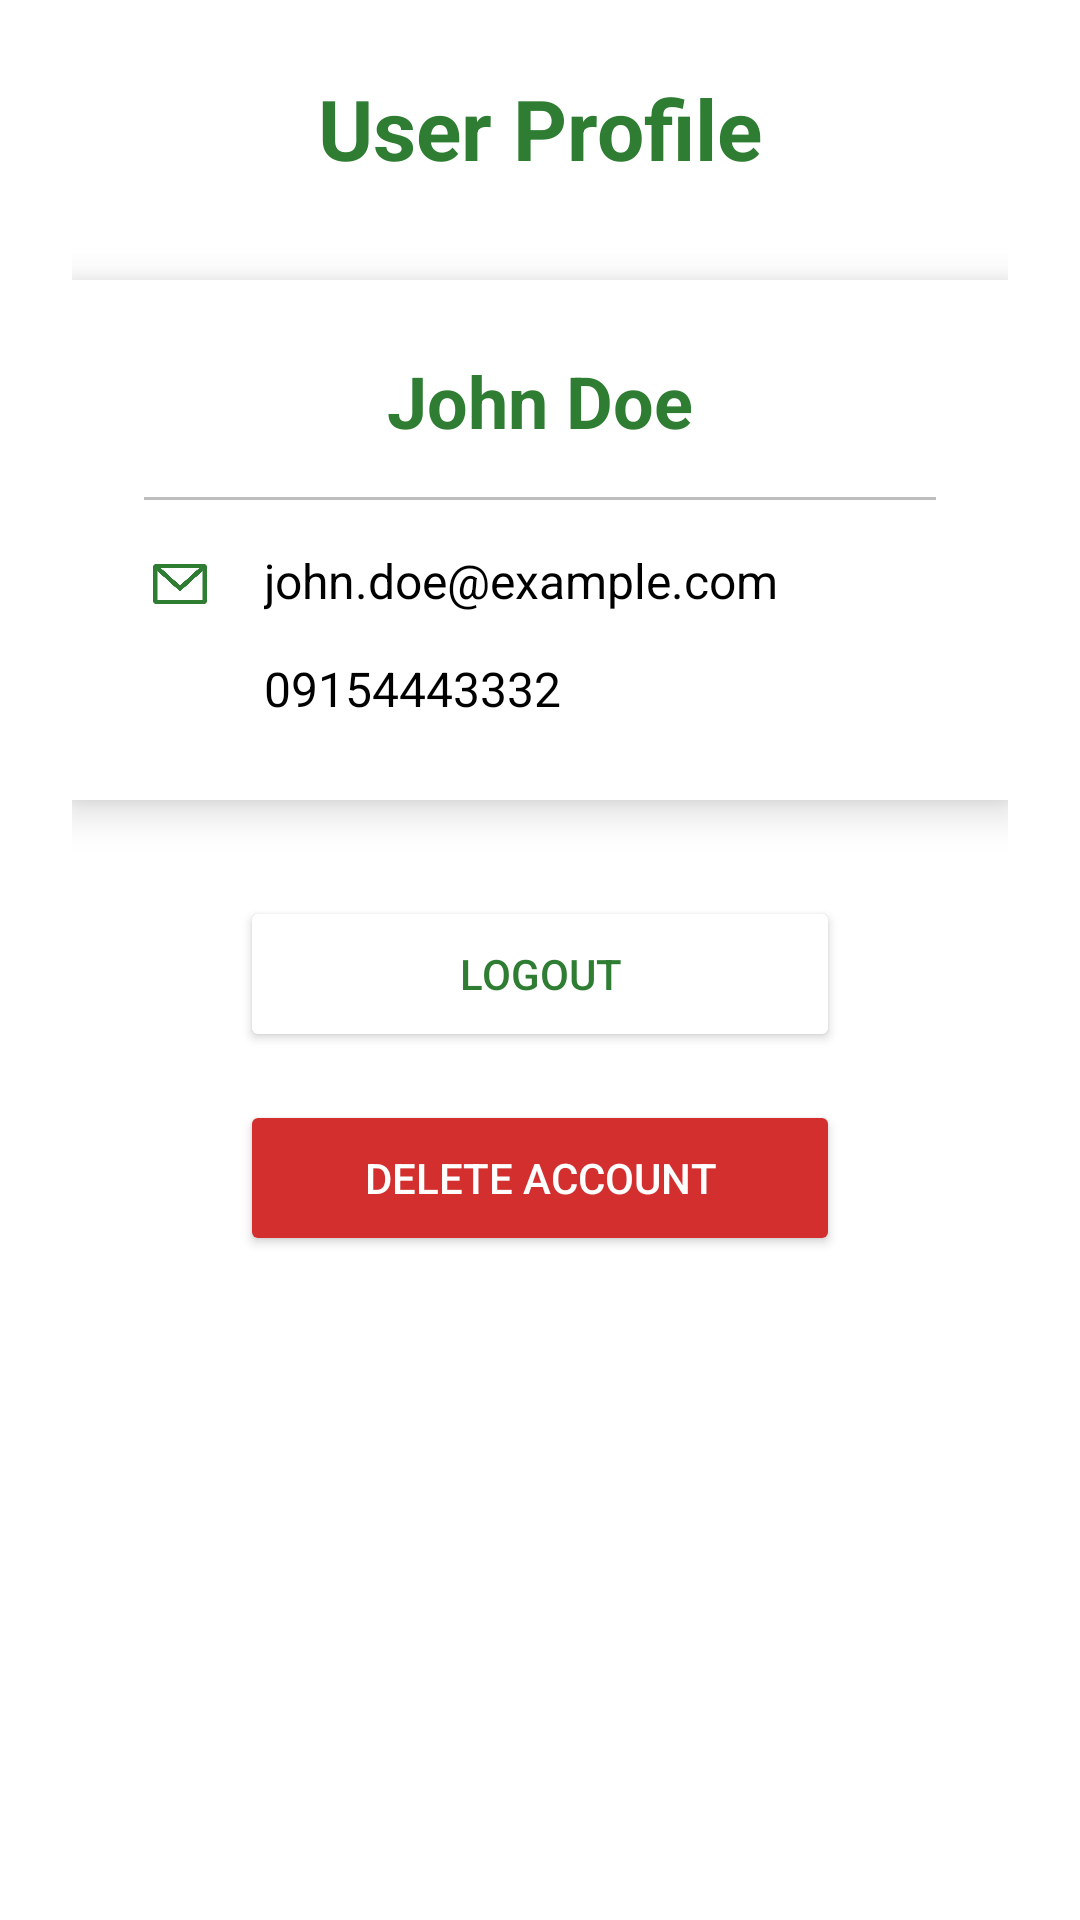

Icons on this 1080*1920 Android screen, each with the point to tap as (x=x, y=y):
email: (x=180, y=584)
